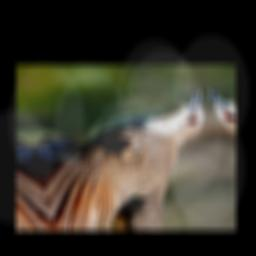Cuckoo: (22, 89, 231, 230)
